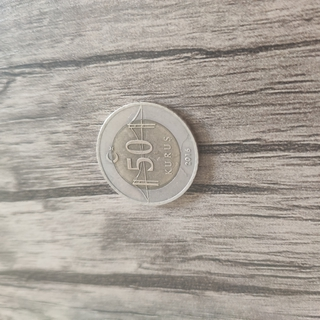50KURUS: (93, 99, 201, 207)
